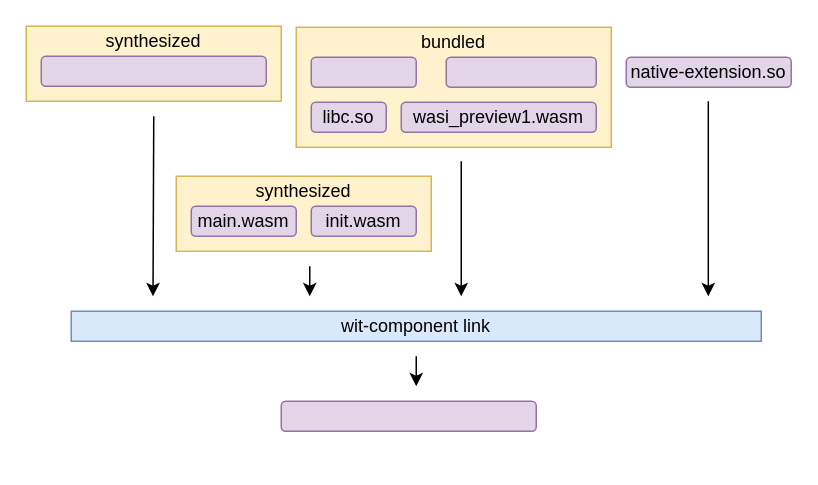
Some shapes in this 818 by 485 pixel diagram are drawn without their labels. The shapes that lost their labels are listed below. From the top down, each one's centre as x and y in pixels, then its label:
the point at 153,70: generated-lift-lower.wasm
the point at 363,71: runtime.so
the point at 520,71: libpython3.11.so
the point at 408,415: uninitialized-component.wasm
